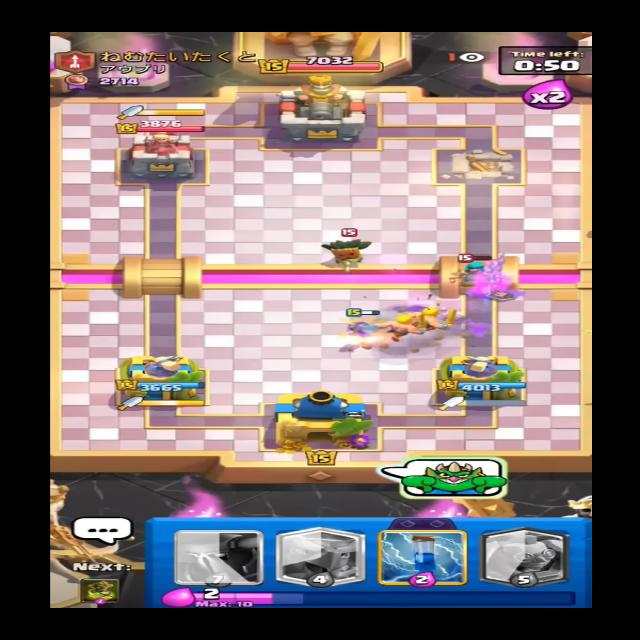dart-goblin: (318, 230, 364, 263)
rascal-girl: (463, 253, 487, 276)
